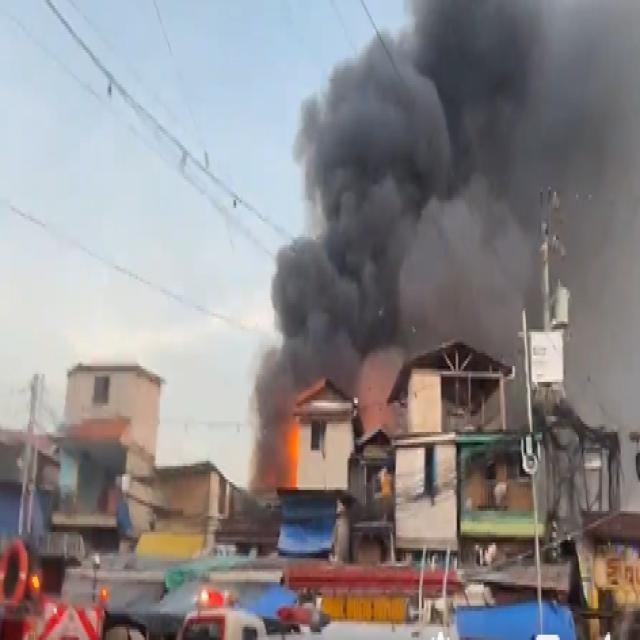Fire: (272, 418, 299, 490)
Smoke: (330, 80, 516, 348), (416, 6, 640, 178), (575, 175, 640, 394), (278, 250, 364, 378)
